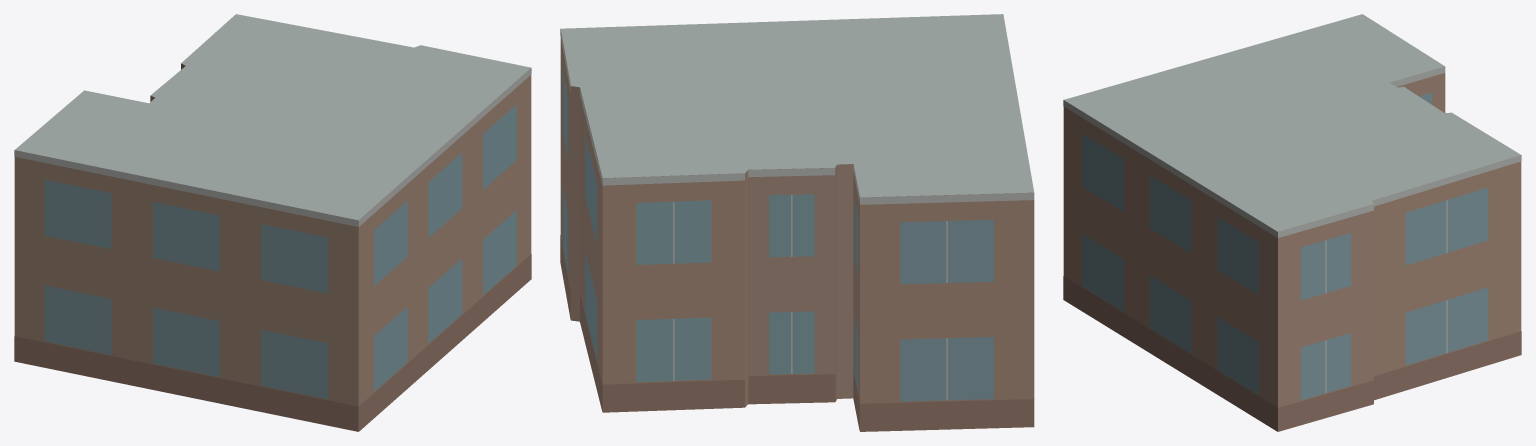
The model's file is survey-upis-32624867.glb.
The picture shows the model from 3 angles, left to right: view 1: azimuth 30°, elevation 25°; view 2: azimuth 150°, elevation 25°; view 3: azimuth 270°, elevation 25°; orthographic projection. The views are drawn at different scales.
Visible parts, largest first — view 1: survey-upis-32624867.tmp; view 2: survey-upis-32624867.tmp; view 3: survey-upis-32624867.tmp.
Boxes of the visible parts, x1,y1,x2,y2 form: survey-upis-32624867.tmp: [14, 14, 531, 431]; survey-upis-32624867.tmp: [560, 14, 1034, 431]; survey-upis-32624867.tmp: [1063, 14, 1521, 431].
Bounding box in the file's own units: 18 × 7.7 × 15.99.
